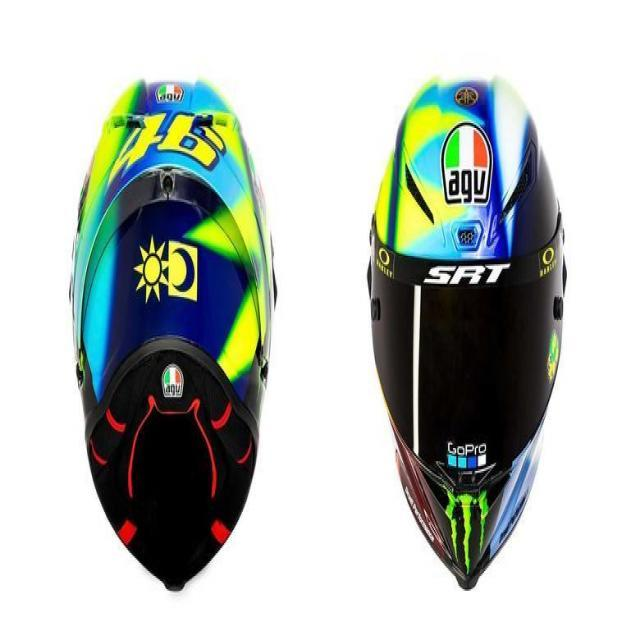Helm: (66, 70, 280, 596), (366, 70, 568, 596)
